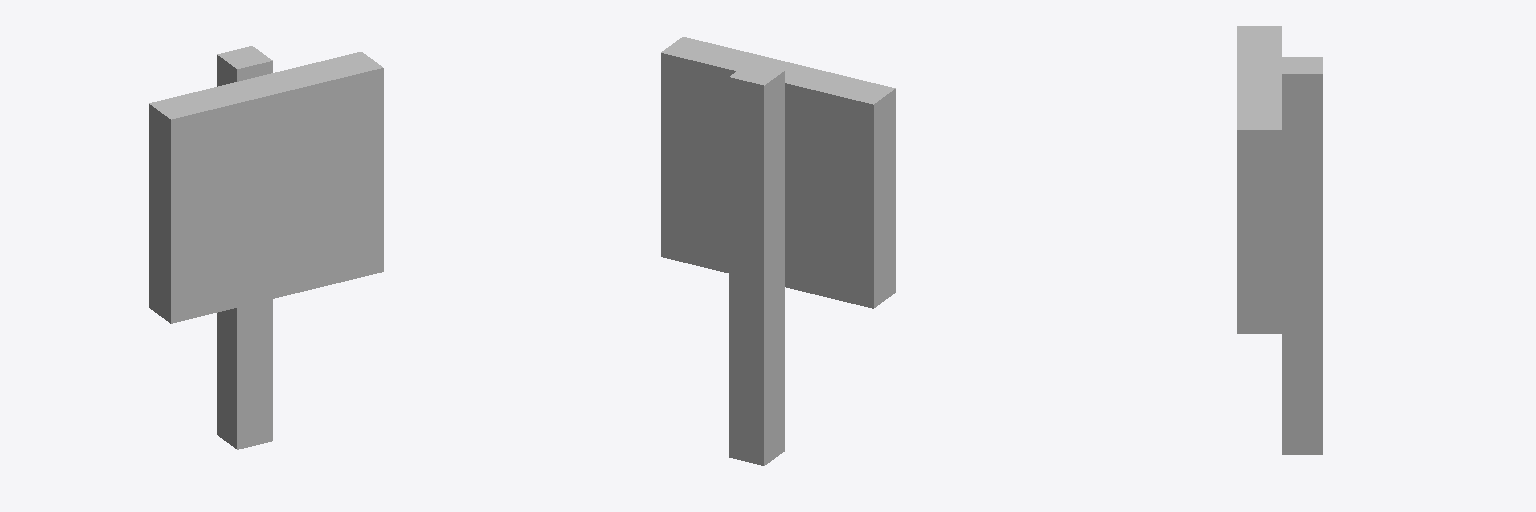
Rendered from wooden-sign.obj.
The picture shows the model from 3 angles: view 1: azimuth 30°, elevation 25°; view 2: azimuth 150°, elevation 25°; view 3: azimuth 270°, elevation 25°; orthographic projection.
Visible parts, largest first — view 1: Wooden_Sign_, Wooden_Sign_Post_; view 2: Wooden_Sign_, Wooden_Sign_Post_eo06, Wooden_Sign_Post_; view 3: Wooden_Sign_Post_, Wooden_Sign_.
Boxes of the visible parts, x1=… form: Wooden_Sign_: x1=149, y1=52, x2=383, y2=323; Wooden_Sign_Post_: x1=217, y1=46, x2=272, y2=449; Wooden_Sign_: x1=661, y1=37, x2=895, y2=308; Wooden_Sign_Post_eo06: x1=729, y1=77, x2=763, y2=465; Wooden_Sign_Post_: x1=730, y1=62, x2=784, y2=465; Wooden_Sign_Post_: x1=1282, y1=57, x2=1322, y2=454; Wooden_Sign_: x1=1237, y1=26, x2=1281, y2=333.
Size of the model in its own units: 18 by 30.75 by 6.25.